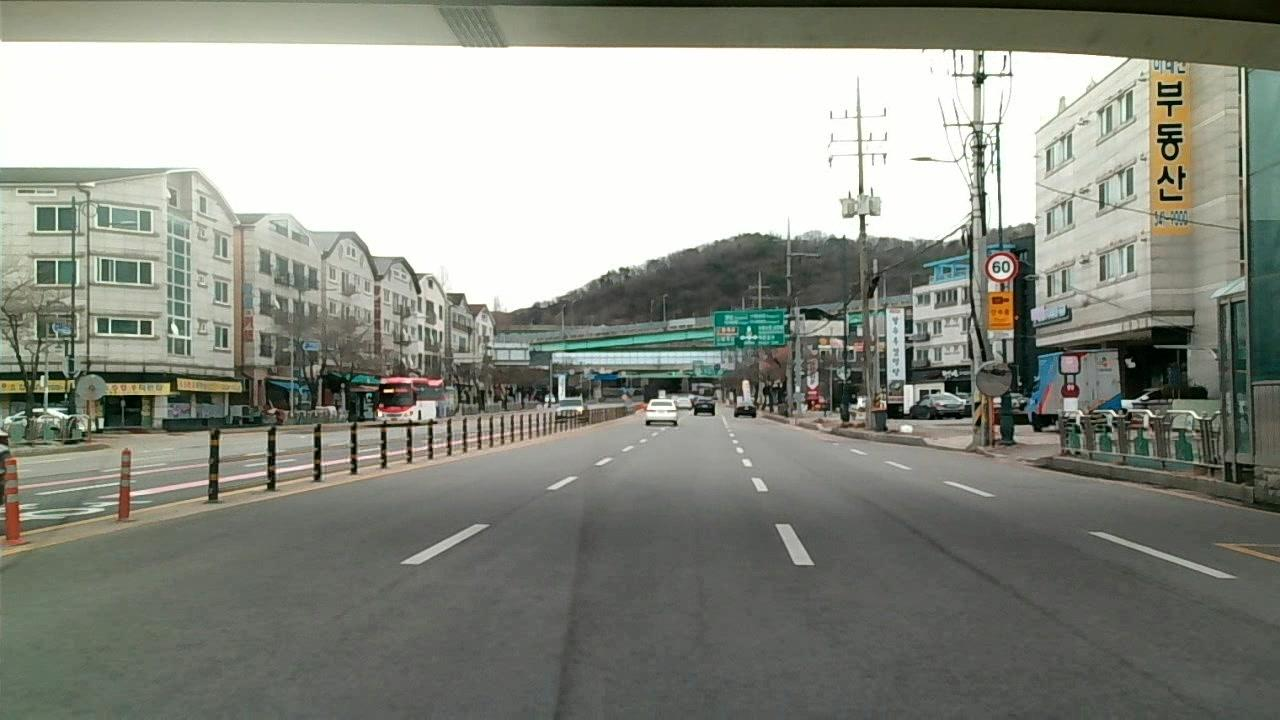vcrack: (902, 517, 1055, 627)
